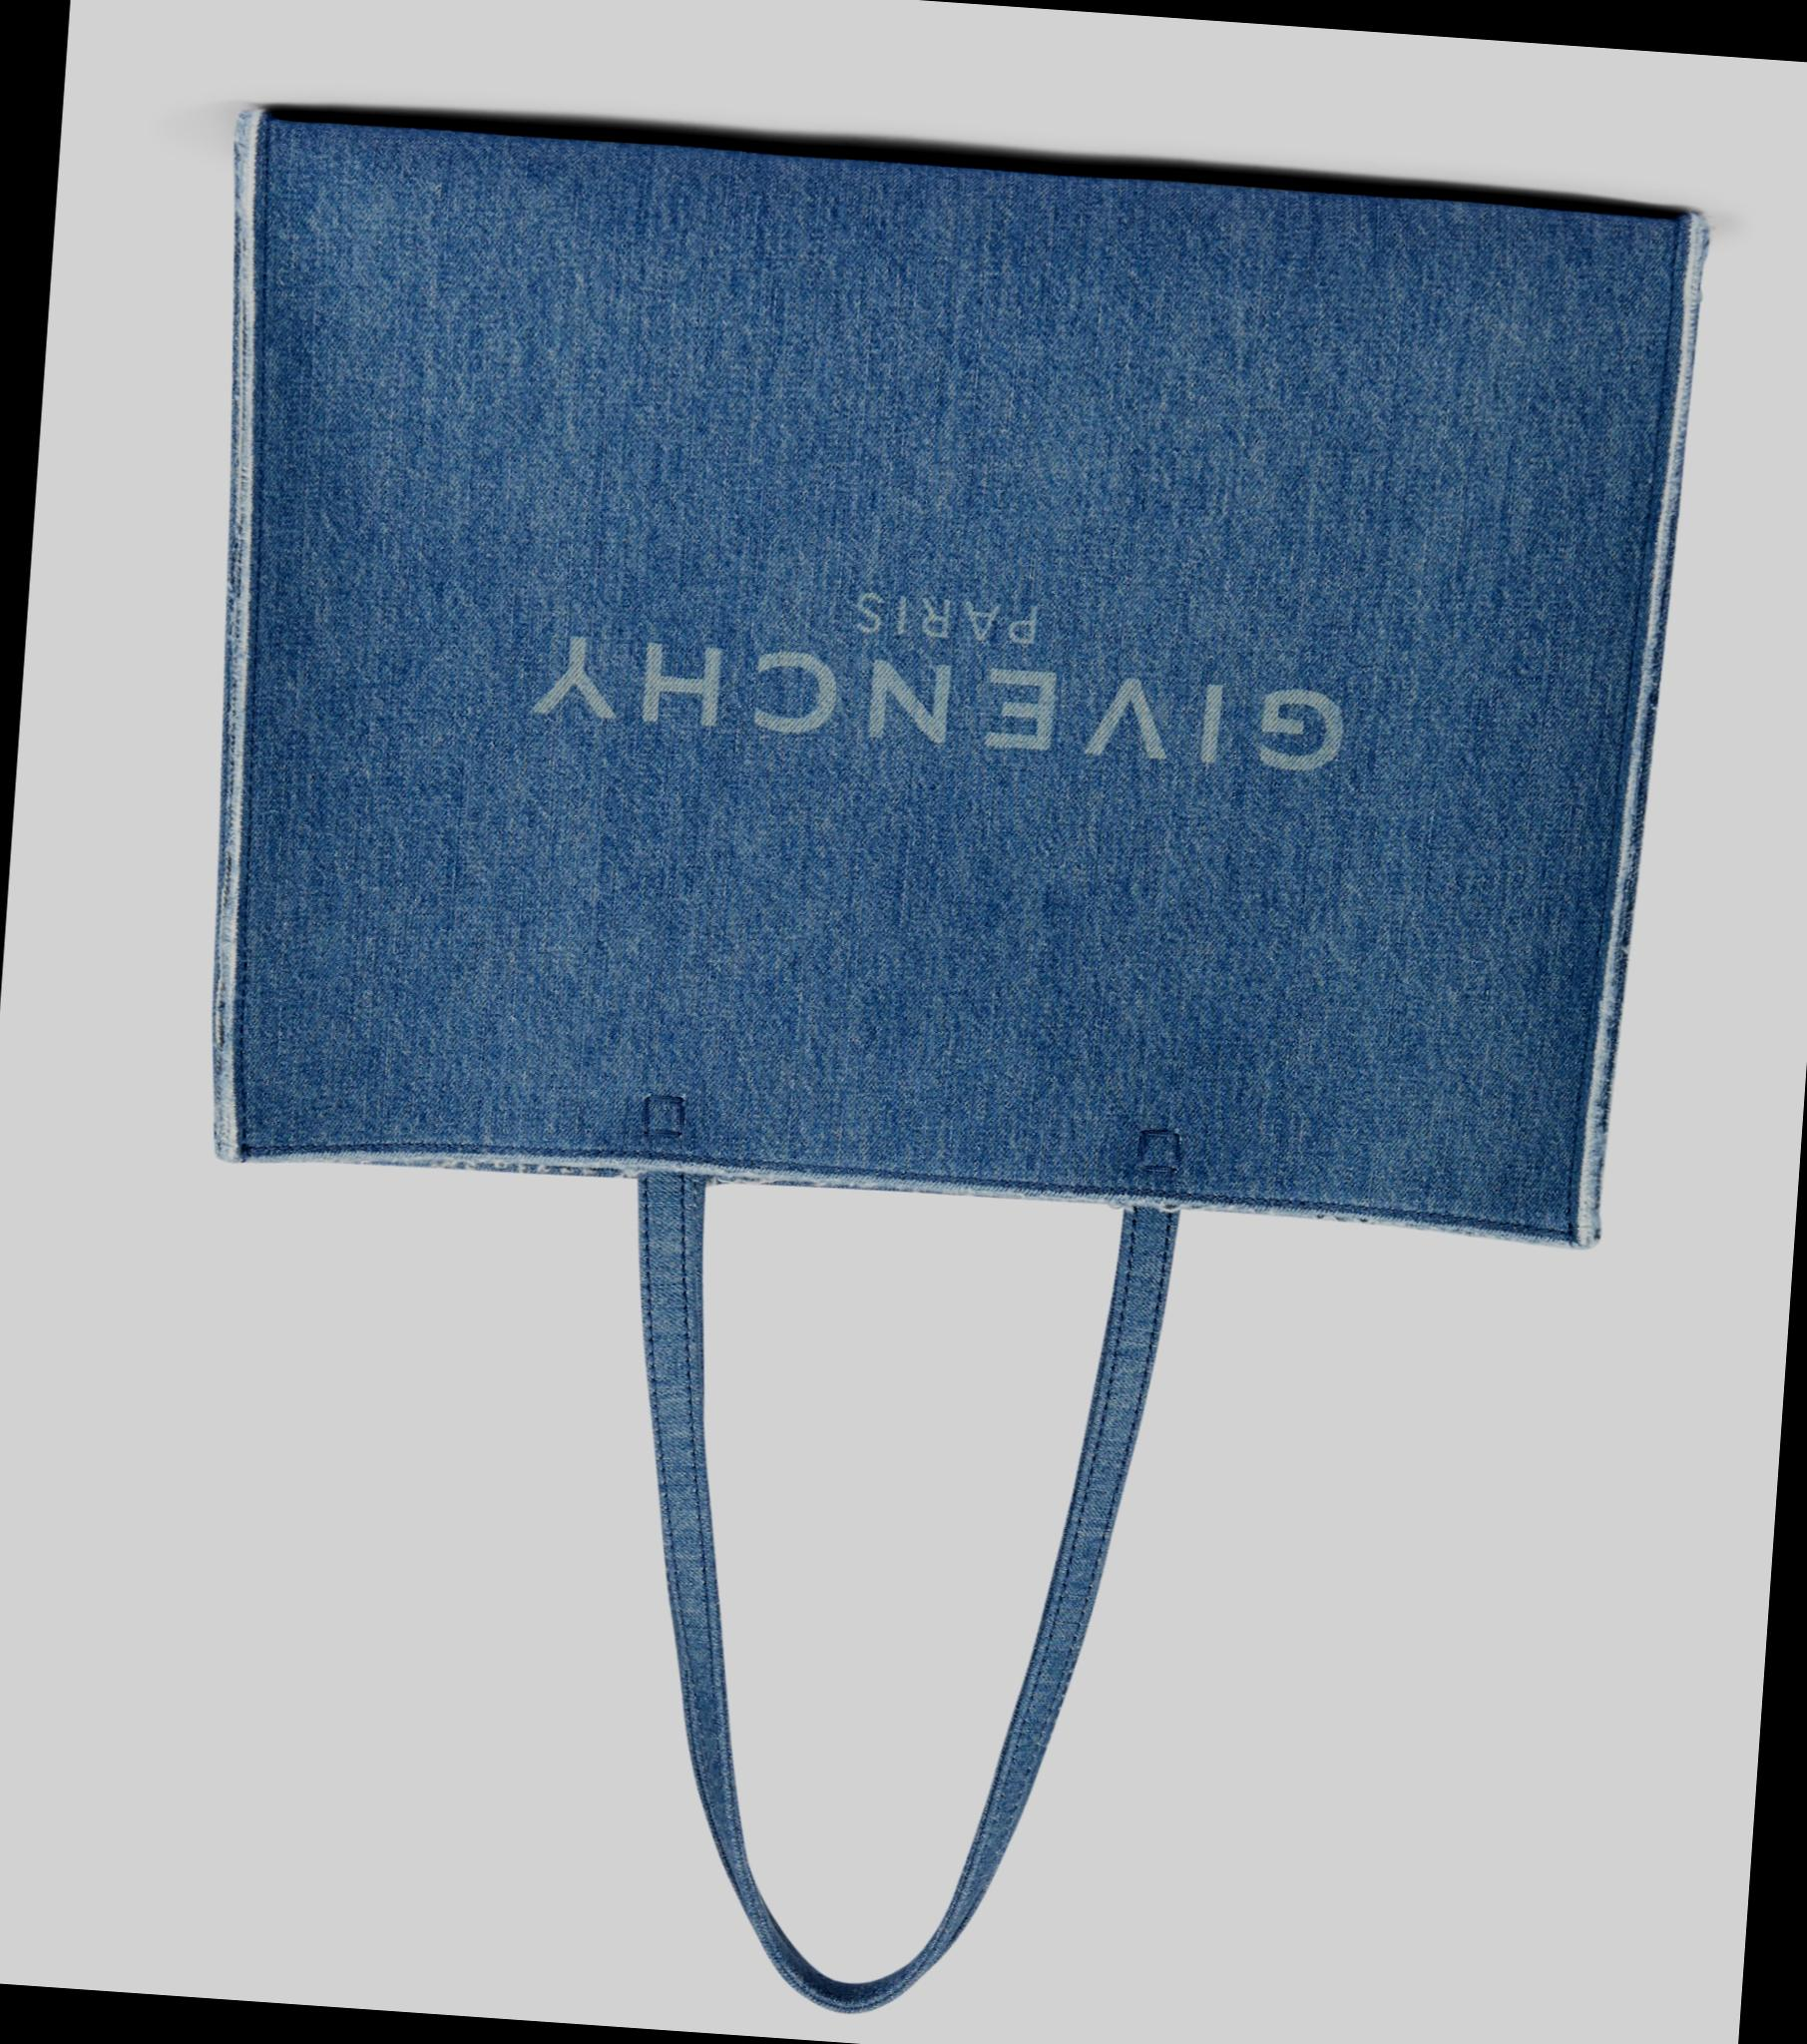GIVENCHY: (483, 516, 1392, 867)
